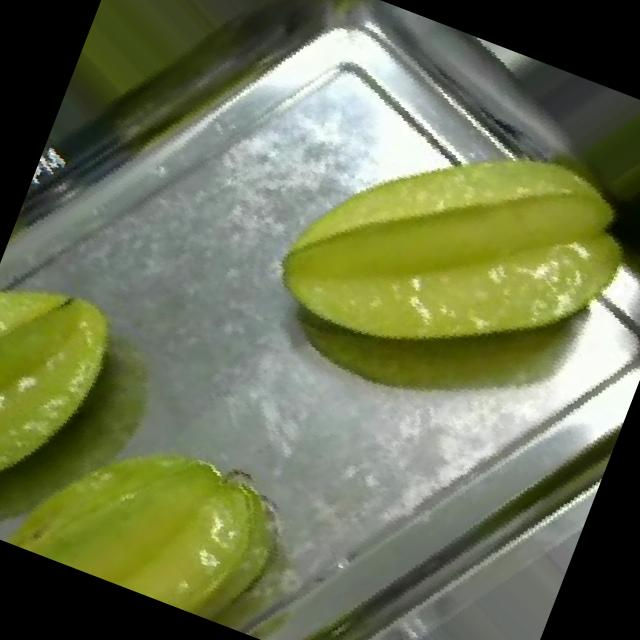fruit: (219, 22, 640, 487), (0, 321, 370, 640), (43, 0, 370, 239), (0, 220, 193, 572)
